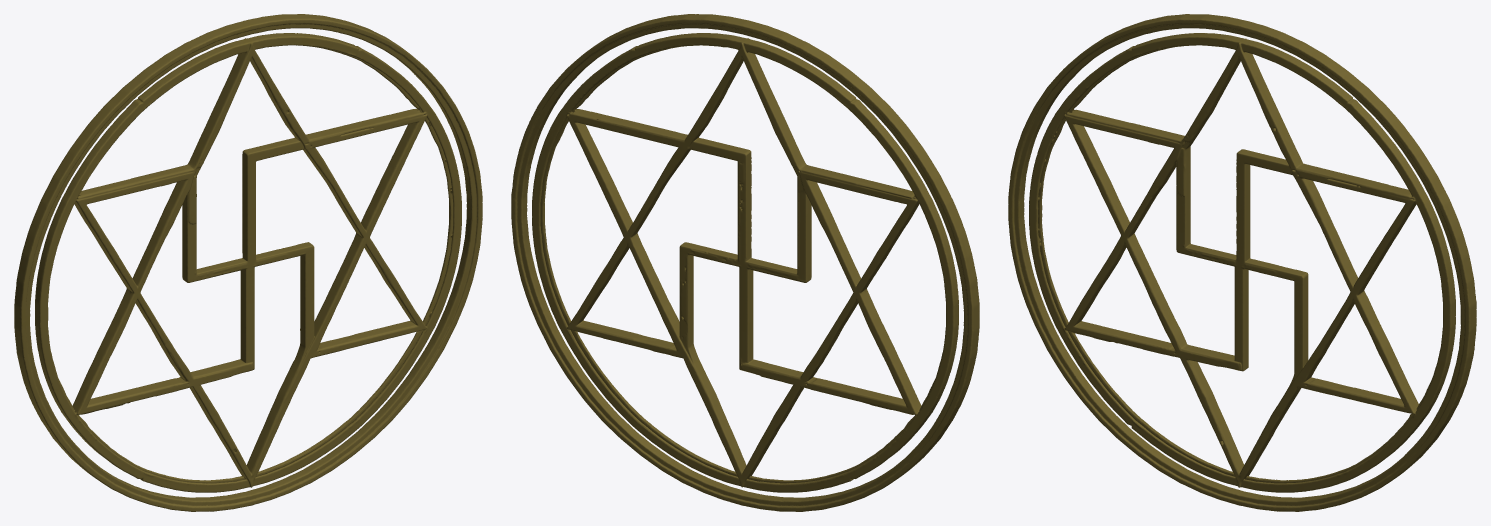
File: mesa.glb
3 renders of one model, left to right at view 1: azimuth 30°, elevation 25°; view 2: azimuth 150°, elevation 25°; view 3: azimuth 330°, elevation 25°, orthographic.
Parts seen in each view (by area): view 1: world; view 2: world; view 3: world.
Boxes of the visible parts, <box> form: world: <box>14,14,482,511</box>; world: <box>511,14,979,511</box>; world: <box>1008,14,1476,511</box>.
Bounding box in the file's own units: 1 × 0.9982 × 0.0284.
Materials: 1 (1 with a texture image).
